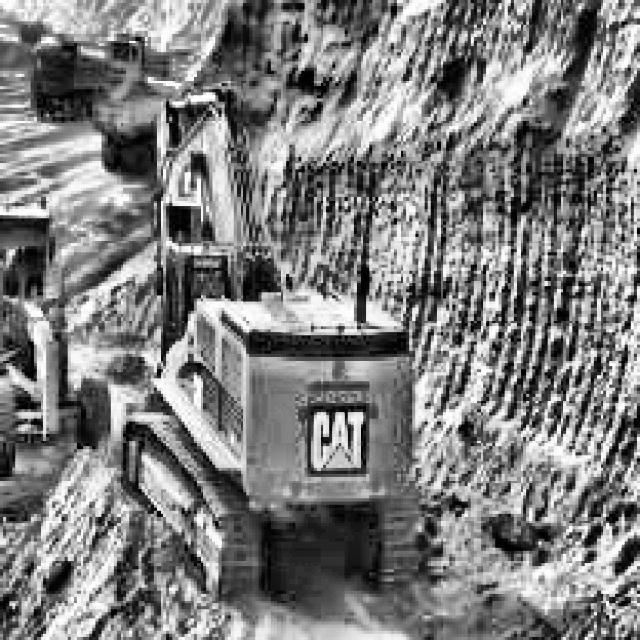dump_truck: (92, 69, 176, 174), (30, 34, 104, 123)
excavator: (117, 66, 418, 626)
